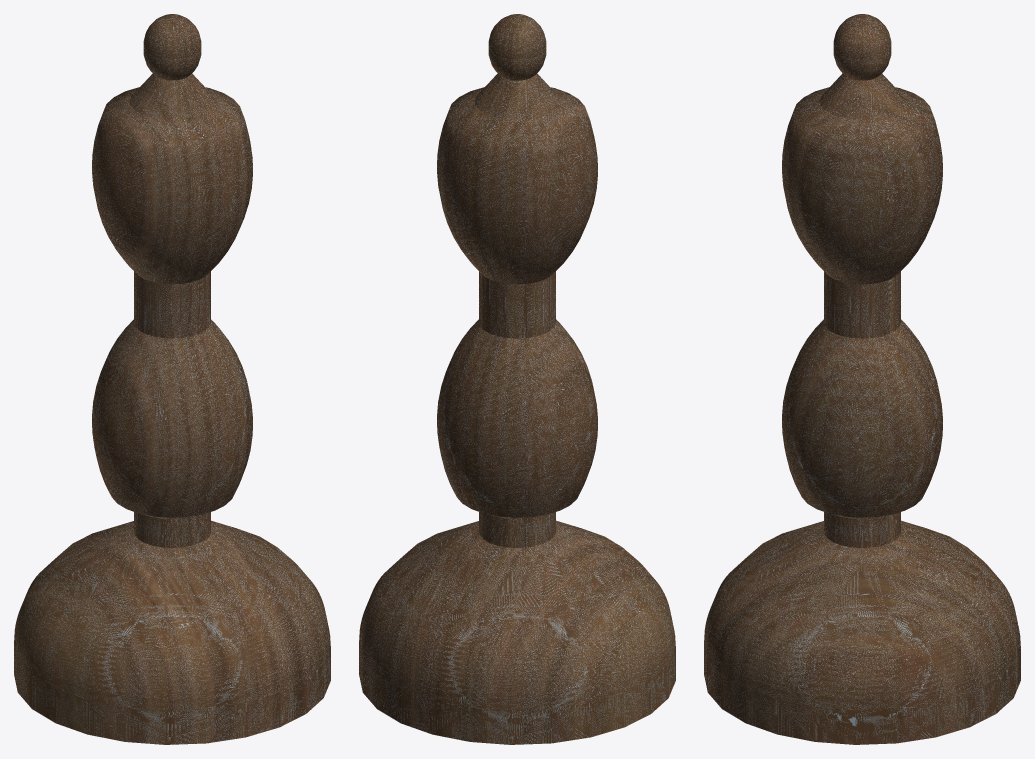
The model's file is Bishop Black.fbx.
3 renders of one model, left to right at view 1: azimuth 30°, elevation 25°; view 2: azimuth 150°, elevation 25°; view 3: azimuth 270°, elevation 25°, orthographic.
Parts seen in each view (by area): view 1: Bishop_Black1; view 2: Bishop_Black1; view 3: Bishop_Black1.
Boxes of the visible parts, left/top/right/bottom form: Bishop_Black1: left=14, top=14, right=330, bottom=744; Bishop_Black1: left=359, top=14, right=675, bottom=744; Bishop_Black1: left=704, top=14, right=1020, bottom=744.
Size of the model in its own units: 0.0475 by 0.1094 by 0.0475.
